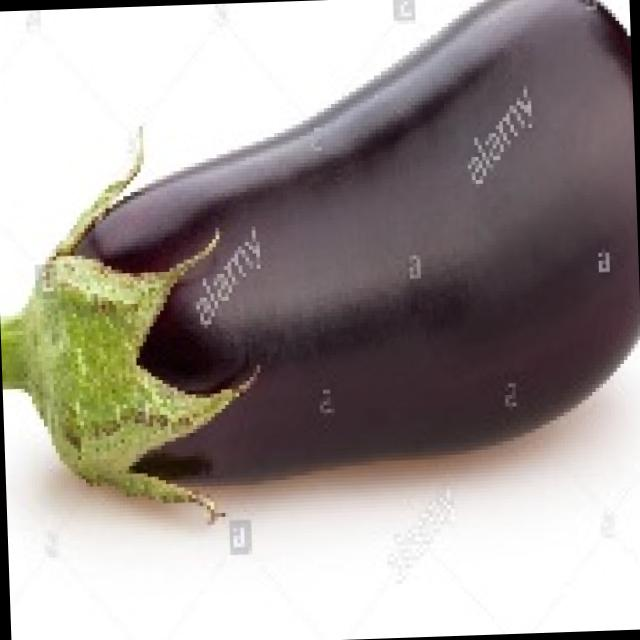eggplant: (21, 0, 640, 484)
